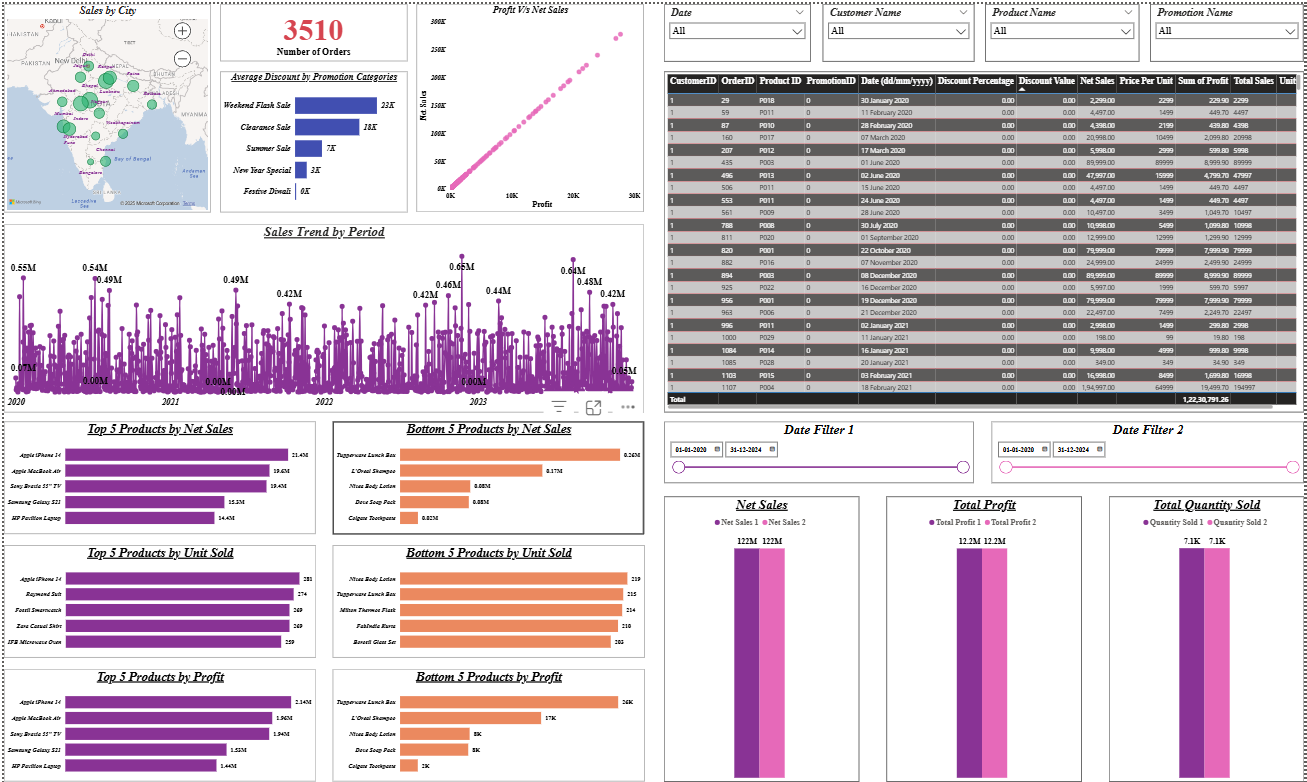

Layout of this report page (visuals, bound fields, positions):
{"tool":"powerbi","page":{"name":"Dashboard","canvas":[2600,1560],"ordinal":5},"visuals":[{"type":"lineChart","title":"Sales Trend by Period","fields":{"Category":["Fact Table.Date (dd/mm/yyyy).Variation.Date Hierarchy.Year"],"Y":["Sum(Fact Table.Net Sales)"]},"box":[0,440,1280,376.7],"z":0},{"type":"scatterChart","title":"Profit V/s Net Sales","fields":{"X":["Fact Table.Profit"],"Y":["Fact Table.Net Sales"]},"box":[826,0,454,416],"z":1000},{"type":"barChart","title":"Average Discount by Promotion Categories","fields":{"Y":["Avg(Fact Table.Discount Value)"],"Category":["Dim Promotion.Promotion Name"]},"box":[431.4,134.3,374.3,281.4],"z":2000},{"type":"map","title":"Sales by City","fields":{"Category":["Dim Customers.City"],"Size":["Sum(Fact Table.Net Sales)"]},"box":[0,0,413.3,416.7],"z":3000},{"type":"card","fields":{"Values":["Count(Fact Table.OrderID)"]},"box":[431.4,0,374.3,114.3],"z":4000},{"type":"barChart","title":"Top 5 Products by Net Sales","fields":{"Category":["Dim Product.Product Name"],"Y":["Sum(Fact Table.Net Sales)"]},"box":[0,835,623.3,225],"z":5000},{"type":"barChart","title":"Bottom 5 Products by Net Sales","fields":{"Category":["Dim Product.Product Name"],"Y":["Sum(Fact Table.Net Sales)"]},"box":[656.4,834.7,623.6,225],"z":6000},{"type":"barChart","title":"Top 5 Products by Unit Sold","fields":{"Category":["Dim Product.Product Name"],"Y":["Sum(Fact Table.Units Sold)"]},"box":[0,1081.9,623.6,225],"z":7000},{"type":"barChart","title":"Bottom 5 Products by Unit Sold","fields":{"Category":["Dim Product.Product Name"],"Y":["Sum(Fact Table.Units Sold)"]},"box":[656.4,1081.9,623.6,225],"z":8000},{"type":"barChart","title":"Top 5 Products by Profit","fields":{"Category":["Dim Product.Product Name"],"Y":["Sum(Fact Table.Profit)"]},"box":[0,1329.1,623.6,225],"z":9000},{"type":"barChart","title":"Bottom 5 Products by Profit","fields":{"Category":["Dim Product.Product Name"],"Y":["Sum(Fact Table.Profit)"]},"box":[656.4,1329.1,623.6,225],"z":10000},{"type":"slicer","title":"Date Filter 1","fields":{"Values":["Date Table 1.Date"]},"box":[1320,835,620,123.3],"z":11000},{"type":"slicer","title":"Date Filter 2","fields":{"Values":["Date Table 2.Date"]},"box":[1975,835,625,123.3],"z":12000},{"type":"clusteredColumnChart","title":"Net Sales","fields":{"Y":["Sum(Fact Table.Net Sales)","Date Table 1.Sum of Net Sale"]},"box":[1320,985,390,570],"z":13000},{"type":"clusteredColumnChart","title":"Total Profit","fields":{"Y":["Sum(Fact Table.Profit)","Measure Table.Total Profit"]},"box":[1765,985,390,570],"z":14000},{"type":"clusteredColumnChart","title":"Total Quantity Sold","fields":{"Y":["Sum(Fact Table.Units Sold)","Measure Table.Total Quantity Sold"]},"box":[2210,985,390,570],"z":15000},{"type":"tableEx","fields":{"Values":["Fact Table.CustomerID","Fact Table.OrderID","Fact Table.Product ID","Fact Table.PromotionID","Fact Table.Date (dd/mm/yyyy)","Fact Table.Discount Percentage","Fact Table.Discount Value","Fact Table.Net Sales","Fact Table.Price Per Unit","Sum(Fact Table.Profit)","Fact Table.Total Sales","Fact Table.Units Sold"]},"box":[1320,135,1280,681.7],"z":16000},{"type":"slicer","fields":{"Values":["Date Table 1.Date"]},"box":[1320,0,293.3,115],"z":17000},{"type":"slicer","fields":{"Values":["Dim Customers.Customer Name"]},"box":[1636.7,0,303.3,115],"z":18000},{"type":"slicer","fields":{"Values":["Dim Product.Product Name"]},"box":[1961.7,0,308.3,115],"z":19000},{"type":"slicer","fields":{"Values":["Dim Promotion.Promotion Name"]},"box":[2293.3,0,306.7,115],"z":20000}]}

Visuals, with their boxes in screenshot pixels (x1, y1, x2, y2), scaled from the page's 2600x1560 canvas onto the 1307x782 screenshot:
"Sales Trend by Period" lineChart: <region>0, 221, 643, 409</region>
"Profit V/s Net Sales" scatterChart: <region>415, 0, 643, 209</region>
"Average Discount by Promotion Categories" barChart: <region>217, 67, 405, 208</region>
"Sales by City" map: <region>0, 0, 208, 209</region>
card - Count(Fact Table.OrderID): <region>217, 0, 405, 57</region>
"Top 5 Products by Net Sales" barChart: <region>0, 419, 313, 531</region>
"Bottom 5 Products by Net Sales" barChart: <region>330, 418, 643, 531</region>
"Top 5 Products by Unit Sold" barChart: <region>0, 542, 313, 655</region>
"Bottom 5 Products by Unit Sold" barChart: <region>330, 542, 643, 655</region>
"Top 5 Products by Profit" barChart: <region>0, 666, 313, 779</region>
"Bottom 5 Products by Profit" barChart: <region>330, 666, 643, 779</region>
"Date Filter 1" slicer: <region>664, 419, 975, 480</region>
"Date Filter 2" slicer: <region>993, 419, 1306, 480</region>
"Net Sales" clusteredColumnChart: <region>664, 494, 860, 779</region>
"Total Profit" clusteredColumnChart: <region>887, 494, 1083, 779</region>
"Total Quantity Sold" clusteredColumnChart: <region>1111, 494, 1306, 779</region>
tableEx - Fact Table.CustomerID x Fact Table.OrderID: <region>664, 68, 1306, 409</region>
slicer - Date Table 1.Date: <region>664, 0, 811, 58</region>
slicer - Dim Customers.Customer Name: <region>823, 0, 975, 58</region>
slicer - Dim Product.Product Name: <region>986, 0, 1141, 58</region>
slicer - Dim Promotion.Promotion Name: <region>1153, 0, 1306, 58</region>
